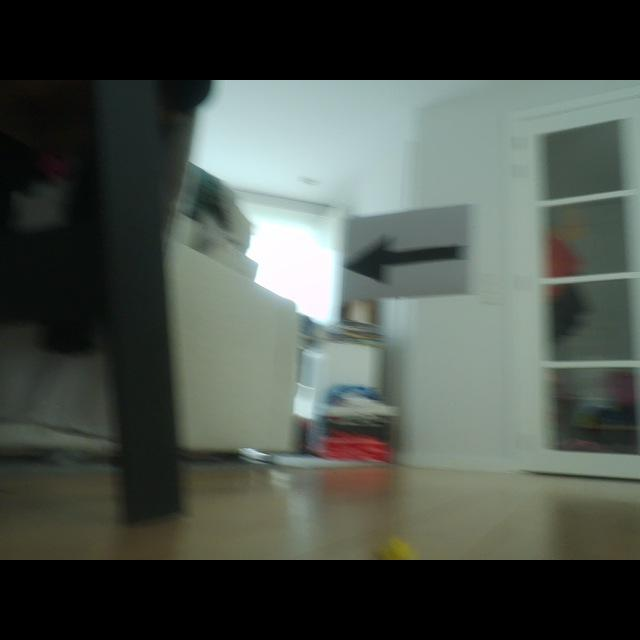balra_nyil: (346, 235, 462, 285)
